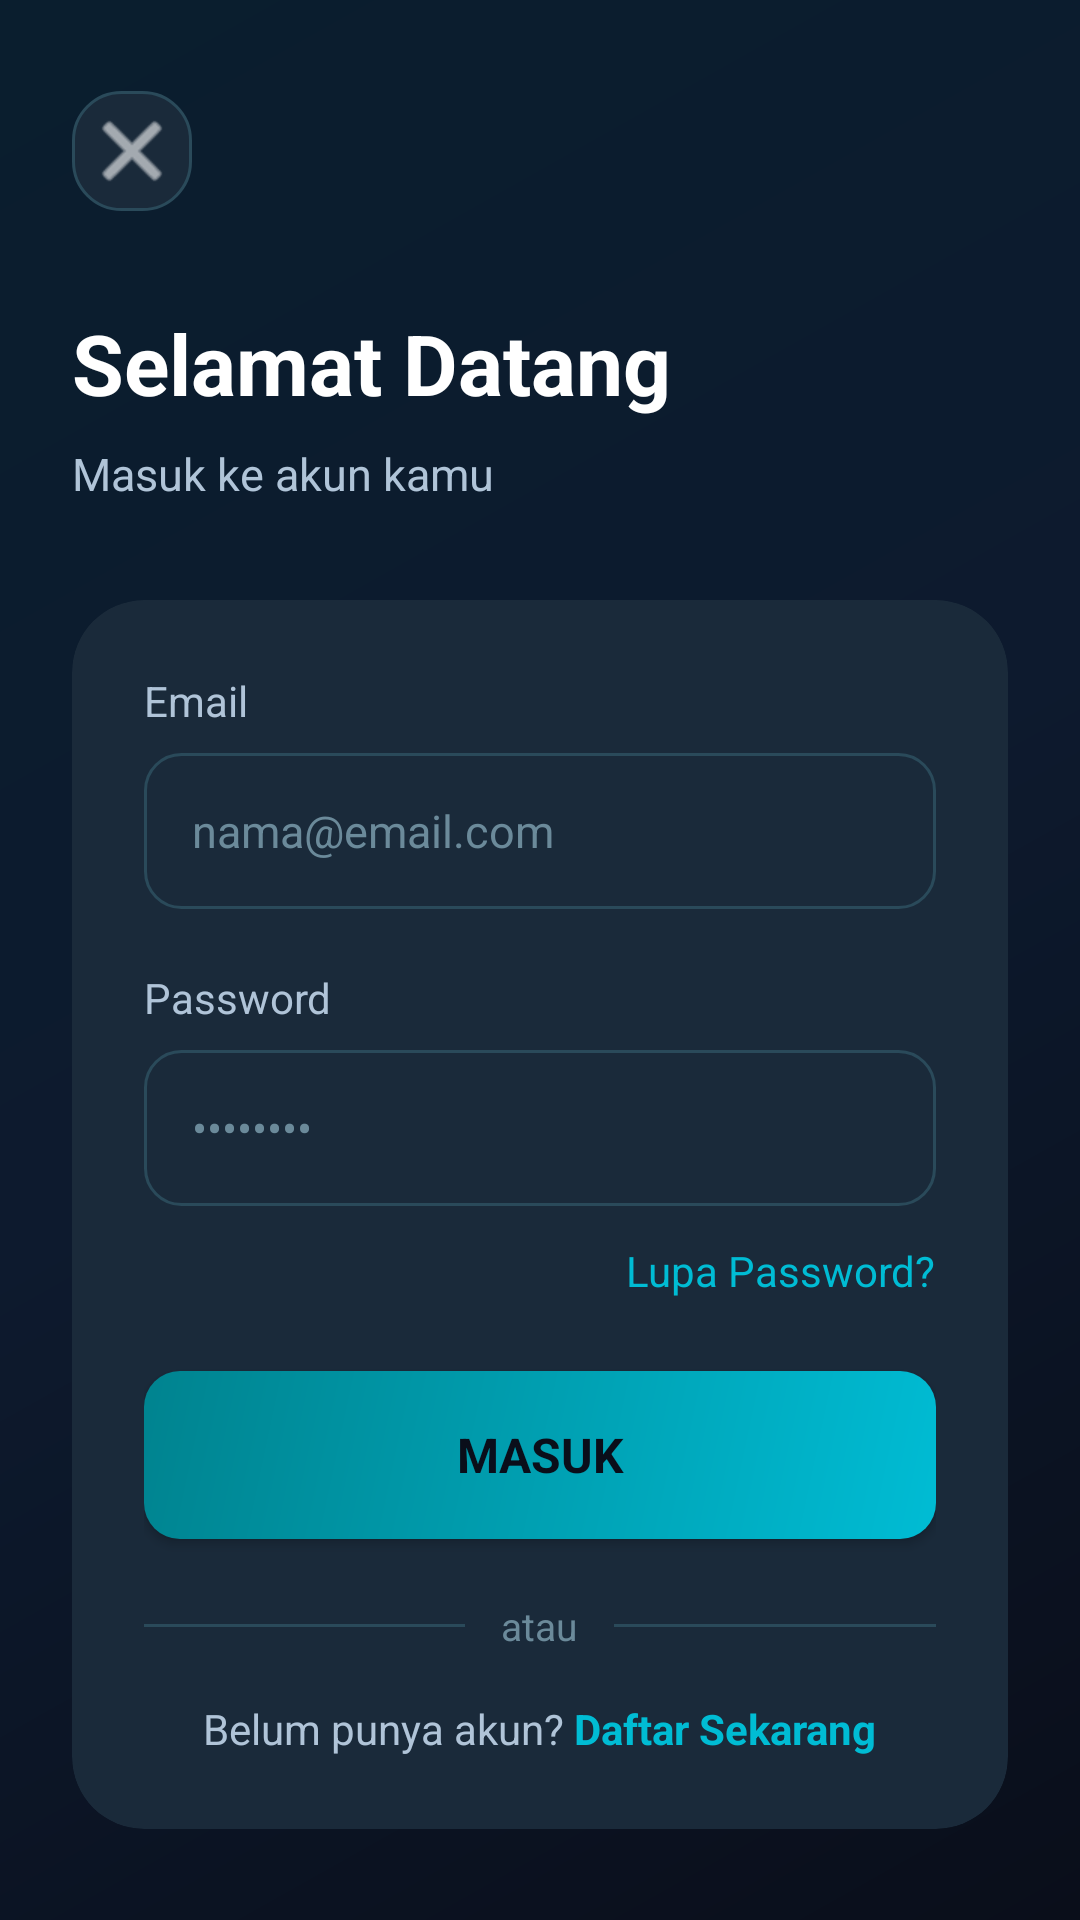

Icon click points for this 1080 x 1920 phone screenshot, format (x=x, y=y):
close clear cancel: (x=132, y=151)
